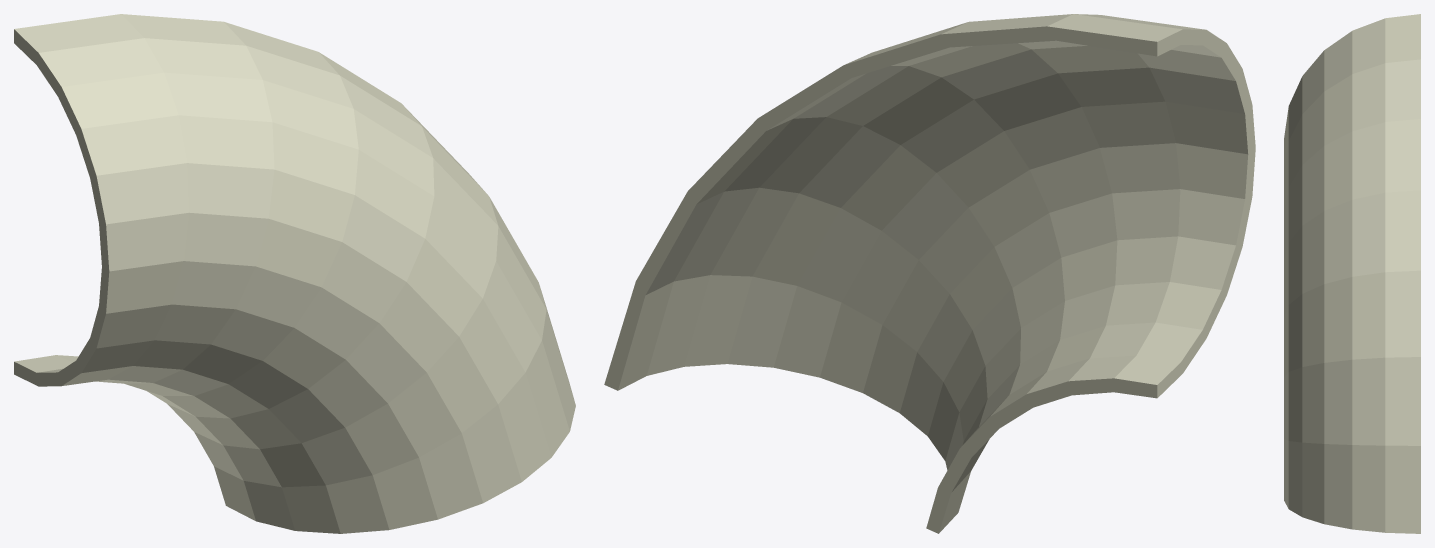
The model's file is section_027.obj.
The picture shows the model from 3 angles, left to right: view 1: azimuth 30°, elevation 25°; view 2: azimuth 150°, elevation 25°; view 3: azimuth 270°, elevation 25°; orthographic projection. The views are drawn at different scales.
Bounding box in the file's own units: 42.22 × 39.78 × 13.
